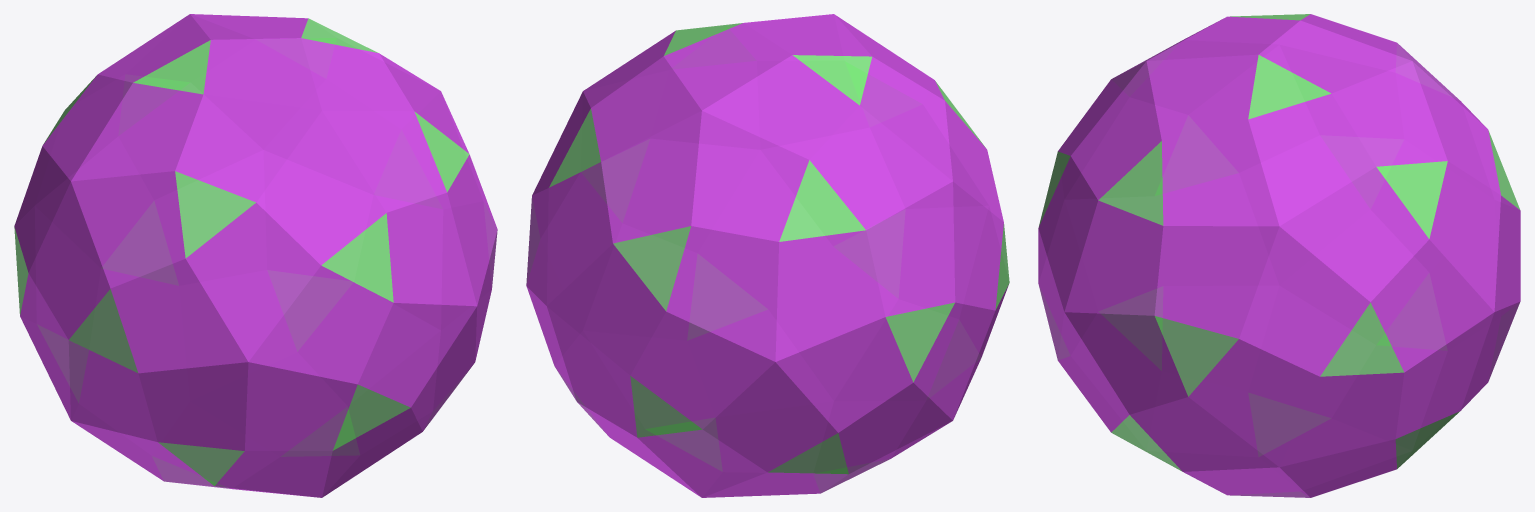
Rendered from PropellorIcosahedron.obj.
The picture shows the model from 3 angles, left to right: view 1: azimuth 30°, elevation 25°; view 2: azimuth 150°, elevation 25°; view 3: azimuth 270°, elevation 25°; orthographic projection.
Bounding box in the file's own units: 2 × 2 × 2.
